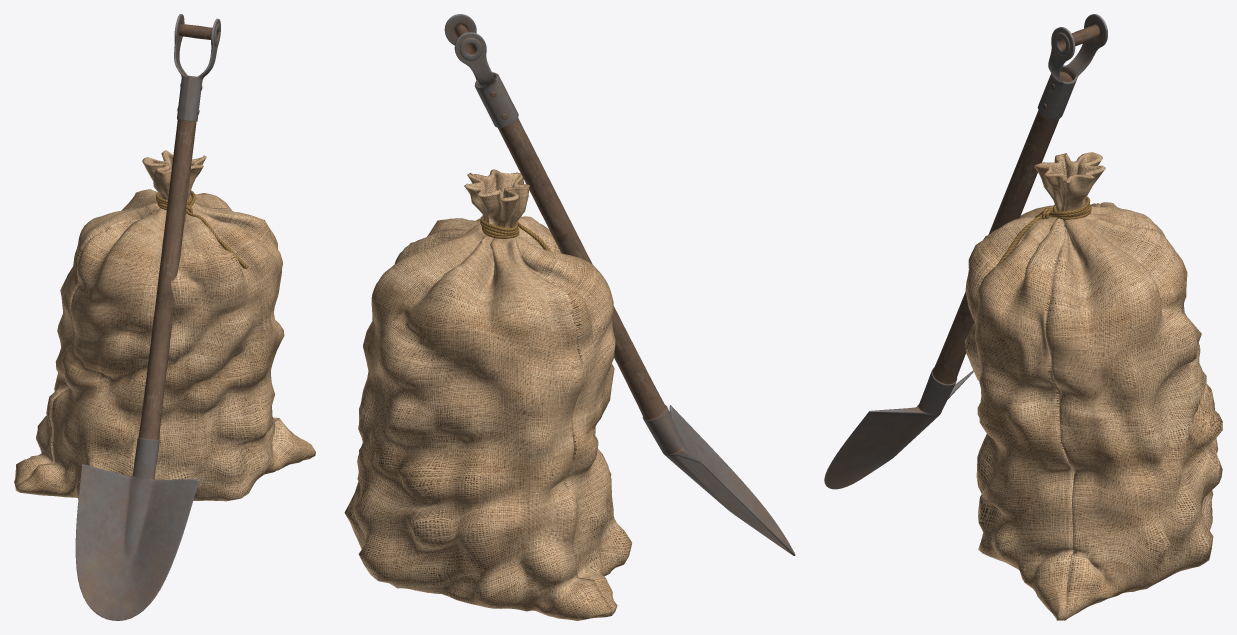
The model's file is farm.glb.
3 renders of one model, left to right at view 1: azimuth 30°, elevation 25°; view 2: azimuth 150°, elevation 25°; view 3: azimuth 270°, elevation 25°, orthographic. The views are drawn at different scales.
Visible parts, largest first — view 1: Cube.001; view 2: Cube.001; view 3: Cube.001.
Part boxes in pixels (x1=…): Cube.001: x1=14, y1=14, x2=315, y2=620; Cube.001: x1=344, y1=14, x2=795, y2=620; Cube.001: x1=824, y1=14, x2=1222, y2=620.
Size of the model in its own units: 0.7136 by 1.08 by 0.6812.
3 materials, 3 textured.
